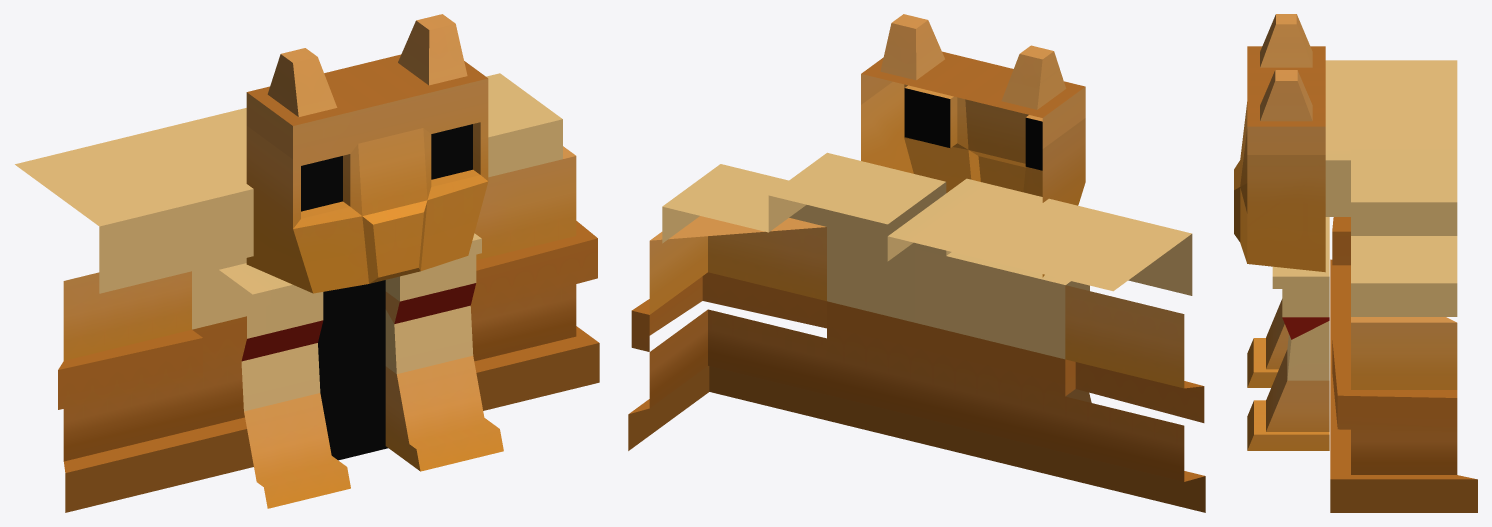
The model's file is EntradaTemploCabeca.glb.
3 renders of one model, left to right at view 1: azimuth 30°, elevation 25°; view 2: azimuth 150°, elevation 25°; view 3: azimuth 270°, elevation 25°, orthographic. The views are drawn at different scales.
Parts seen in each view (by area): view 1: EntradaTemploCabeca; view 2: EntradaTemploCabeca; view 3: EntradaTemploCabeca.
Boxes of the visible parts, x1,y1,x2,y2 form: EntradaTemploCabeca: (15, 14, 599, 512); EntradaTemploCabeca: (628, 14, 1205, 512); EntradaTemploCabeca: (1234, 14, 1477, 512).
Size of the model in its own units: 14.28 by 10.65 by 6.55.
Materials: 1 (1 with a texture image).
